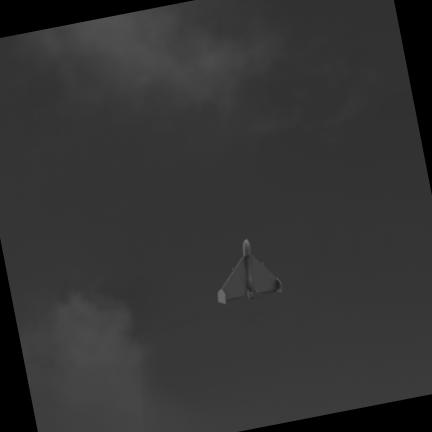Shahed: (218, 240, 281, 303)
